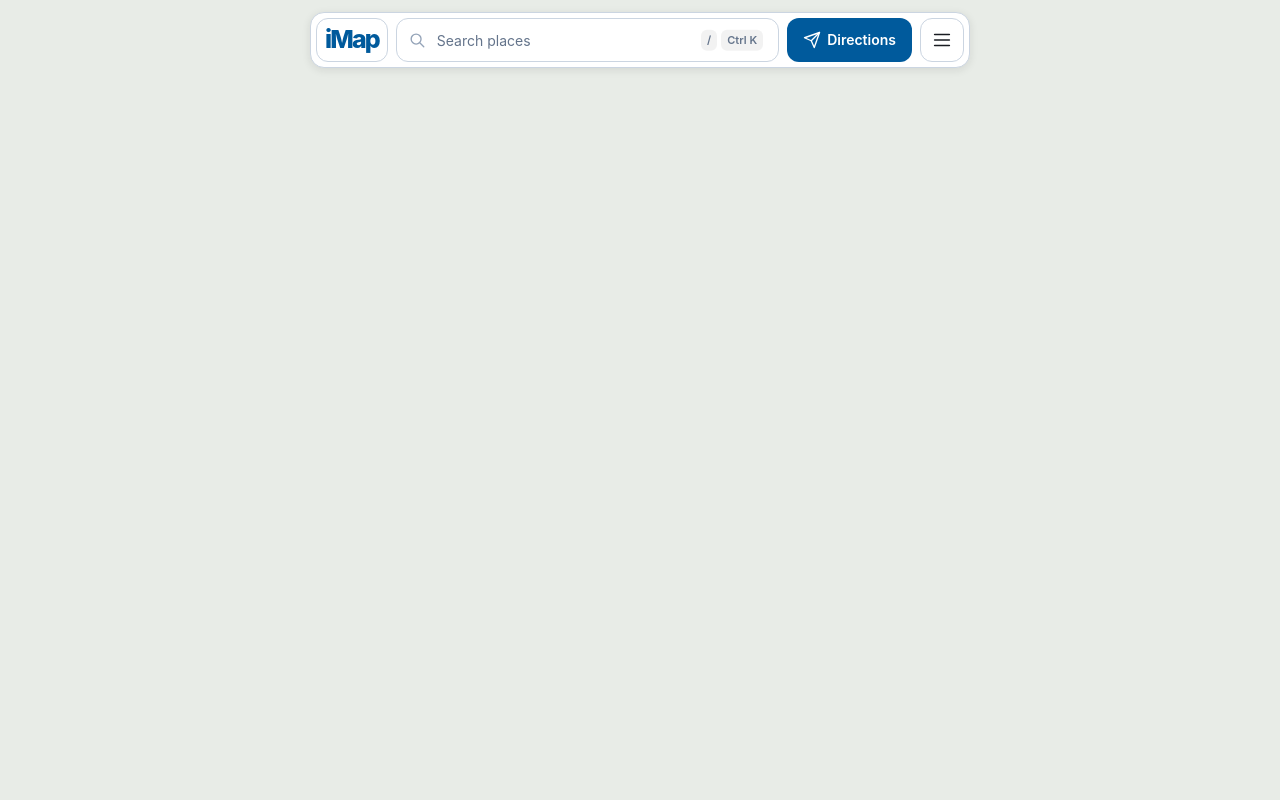
Test case: TopBar sign-in button › tiếng Anh: "Sign in" thay cho "SI"
This screenshot has width=1280, height=800.
Step 1. Click the button named "Menu" → (942, 40), box [920,18,964,62]
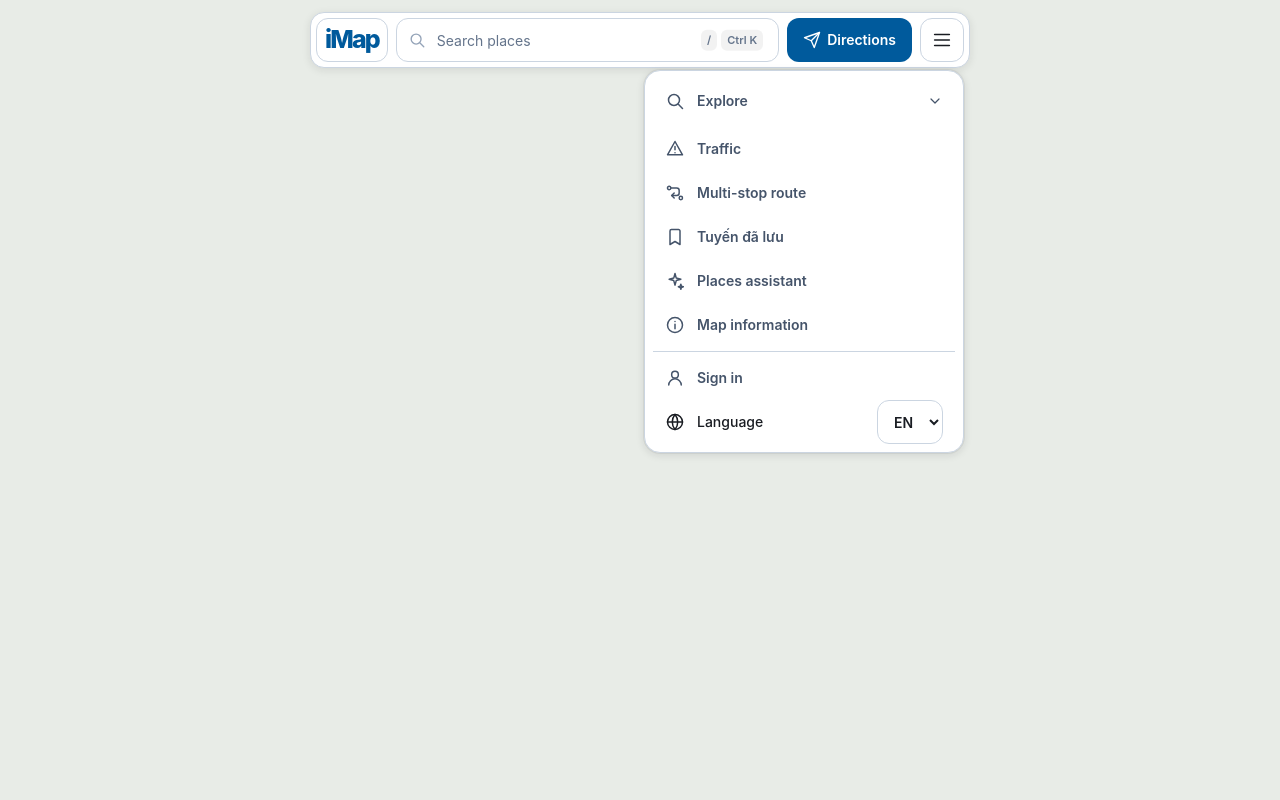
Expected: the link "Sign in" does not show "SI"
Expected: the link "Sign in" is shown, [665,368,743,388]
